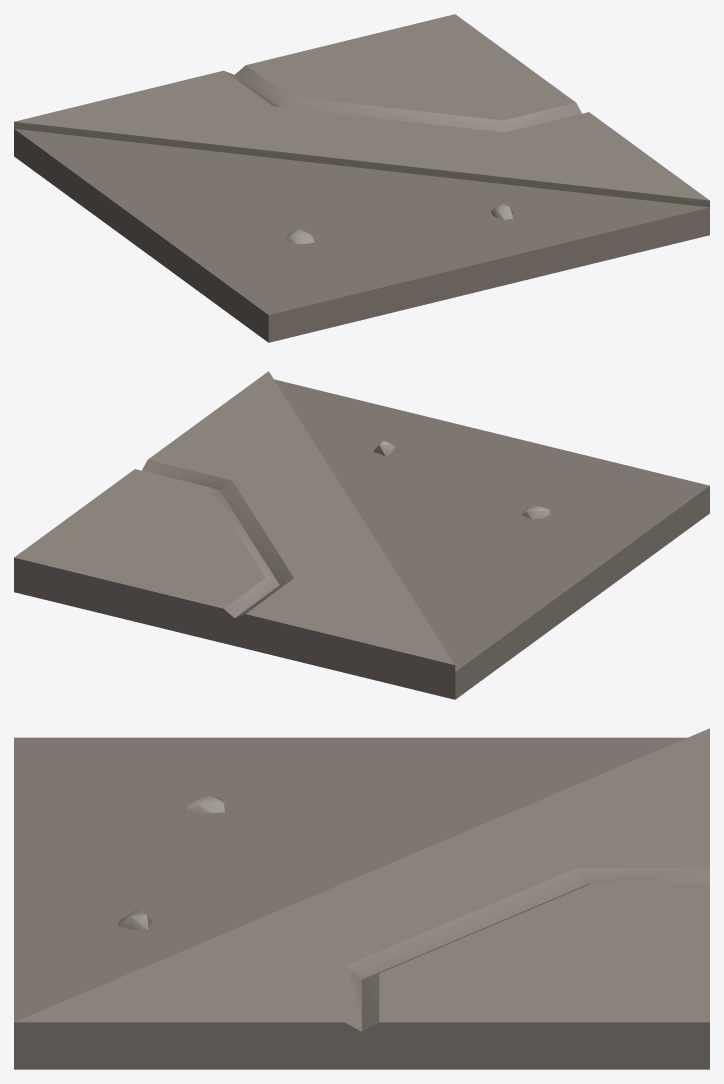
Rendered from floor_dirt_small_corner.gltf.
3 views of the same model, one above another, from view 1: azimuth 30°, elevation 25°; view 2: azimuth 150°, elevation 25°; view 3: azimuth 270°, elevation 25° (orthographic). The views are drawn at different scales.
Parts seen in each view (by area): view 1: floor_dirt_small_corner; view 2: floor_dirt_small_corner; view 3: floor_dirt_small_corner.
Boxes of the visible parts, x1,y1,x2,y2 form: floor_dirt_small_corner: (14, 14, 709, 342); floor_dirt_small_corner: (14, 371, 709, 699); floor_dirt_small_corner: (14, 728, 709, 1069).
Bounding box in the file's own units: 2 × 0.1538 × 2.
Materials: 1 (1 with a texture image).
